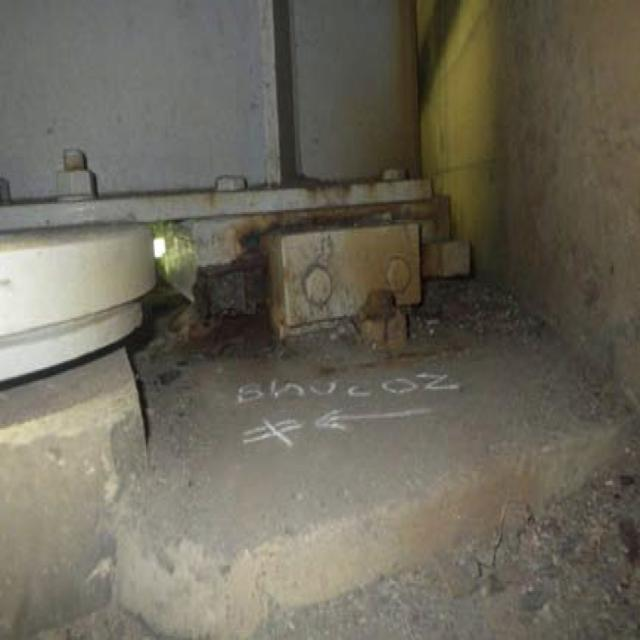corrosion: (198, 259, 316, 390)
